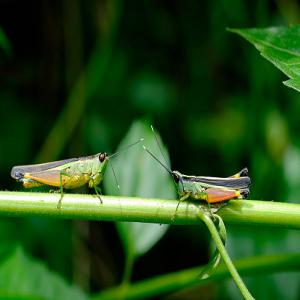locust: (144, 128, 259, 216), (6, 131, 127, 208)
